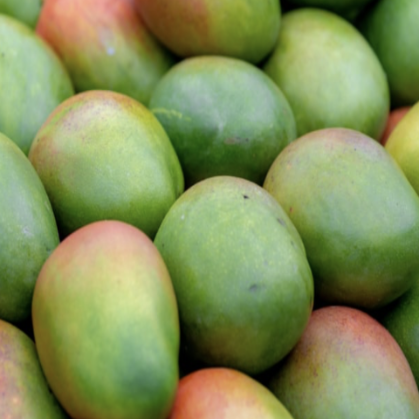mango: (138, 171, 325, 370), (19, 216, 197, 416), (261, 111, 419, 325), (140, 33, 305, 183)
